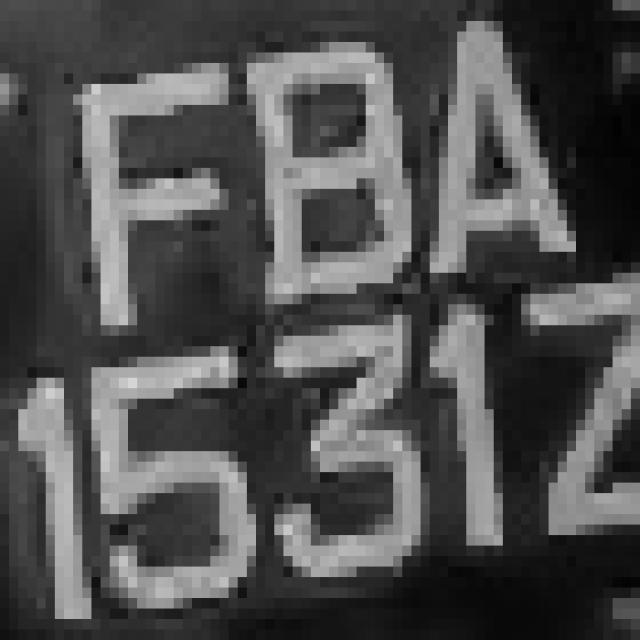1: (421, 273, 512, 577), (3, 366, 90, 629), (0, 5, 2, 11)
3: (247, 325, 411, 598)
5: (100, 335, 246, 640)
A: (411, 0, 585, 304)
B: (220, 42, 412, 315)
F: (55, 31, 238, 336)
Z: (516, 269, 640, 537), (8, 4, 10, 9)
